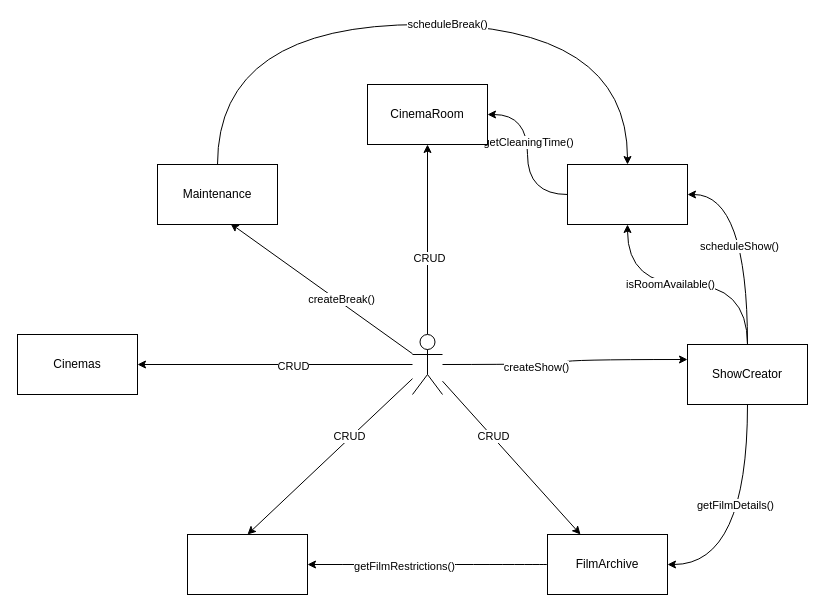
Image size: 825x612. Some labels were removed from this diagram. Here are the shapes that lost their labels. From the top down, the centre of each, then its label:
At (627,194): "Scheduler".
At (427,364): "Actor".
At (247,564): "FilmRestriction".
